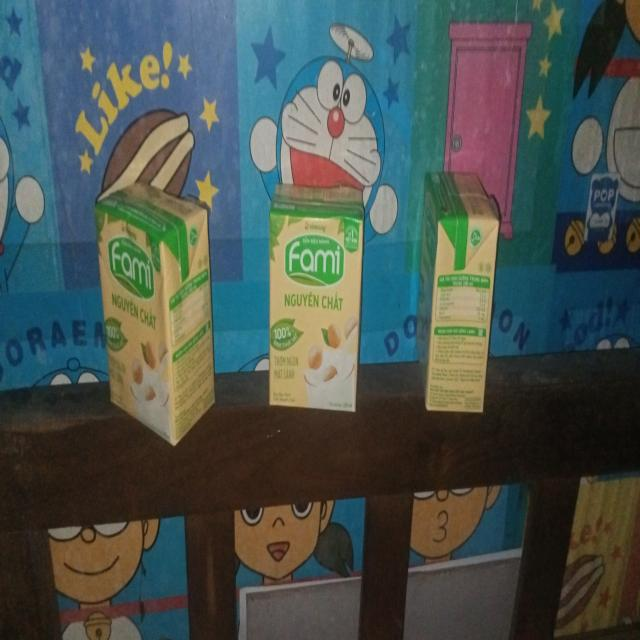Fami: (98, 190, 214, 447), (268, 185, 365, 410), (418, 169, 501, 412)
